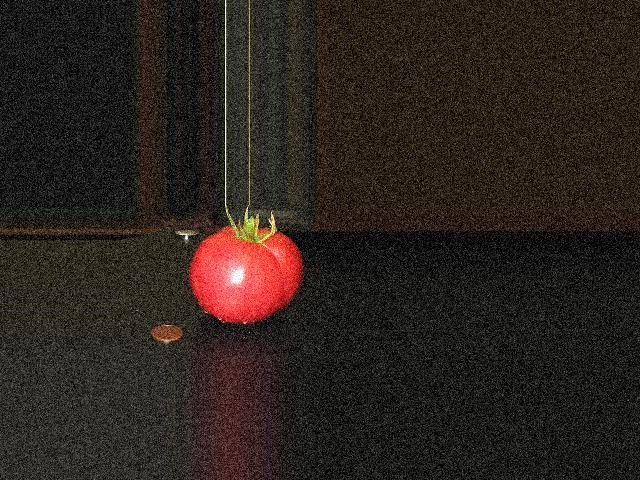tomato: (190, 226, 304, 324)
